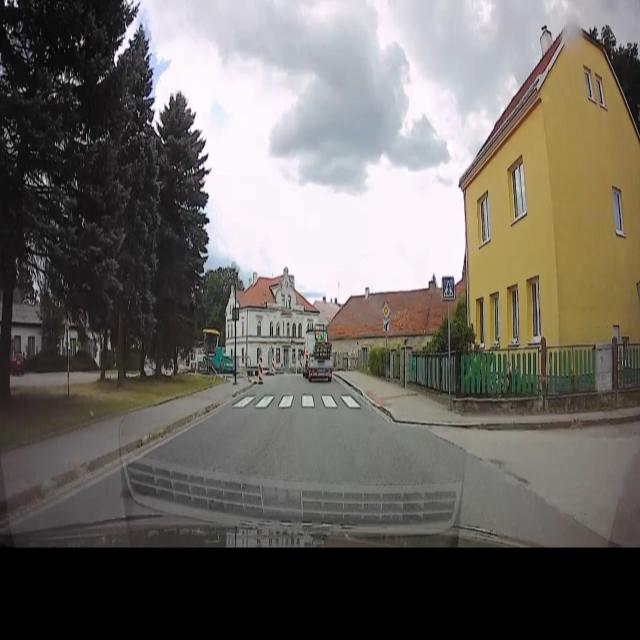Car: (300, 322, 336, 382)
Pedestrian crosswalk: (441, 273, 457, 304)
